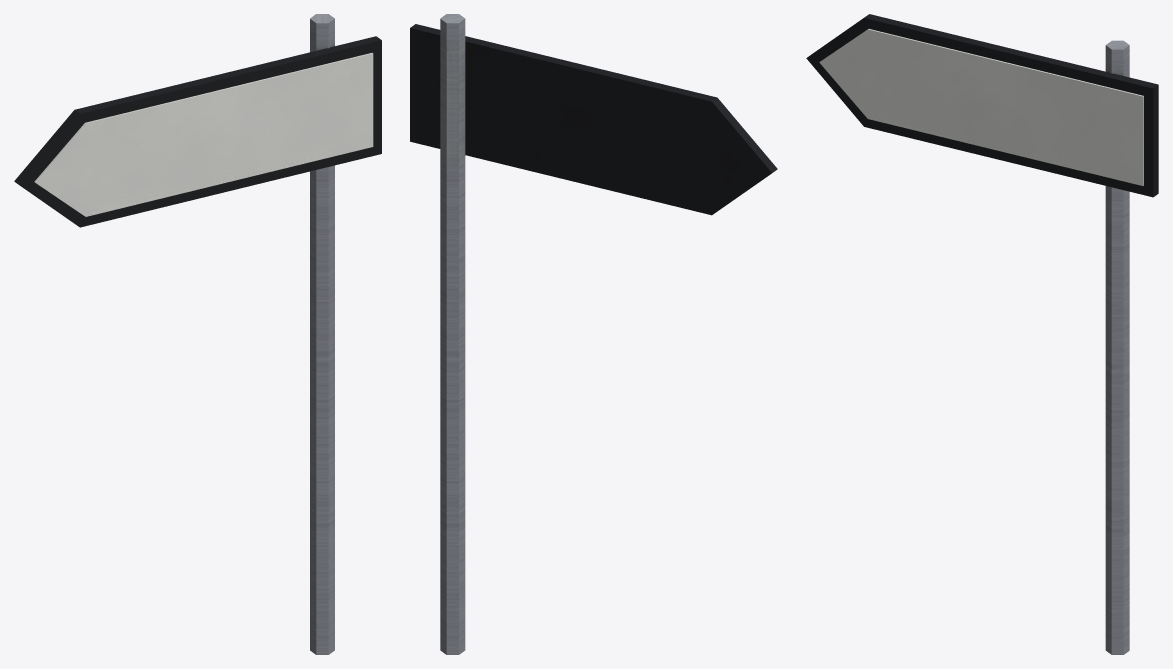
The model's file is skylt_vag_v_tex.glb.
3 renders of one model, left to right at view 1: azimuth 30°, elevation 25°; view 2: azimuth 150°, elevation 25°; view 3: azimuth 330°, elevation 25°, orthographic. The views are drawn at different scales.
Parts seen in each view (by area): view 1: skylt_vag_v; view 2: skylt_vag_v; view 3: skylt_vag_v.
Part boxes in pixels (box(x1,y1,x2,y2)): skylt_vag_v: box(14, 14, 381, 654); skylt_vag_v: box(410, 14, 777, 654); skylt_vag_v: box(806, 14, 1158, 654).
Bounding box in the file's own units: 1.5 × 2.5 × 0.132.
Materials: 3 (3 with a texture image).
